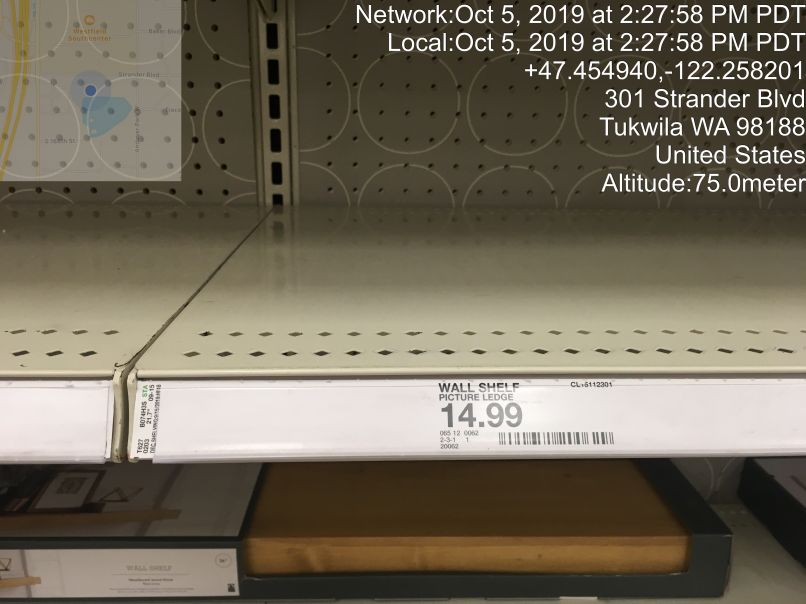Label: (426, 374, 633, 457)
Location: (593, 83, 806, 170)
Time: (350, 1, 806, 56)
Void: (12, 35, 796, 341)
